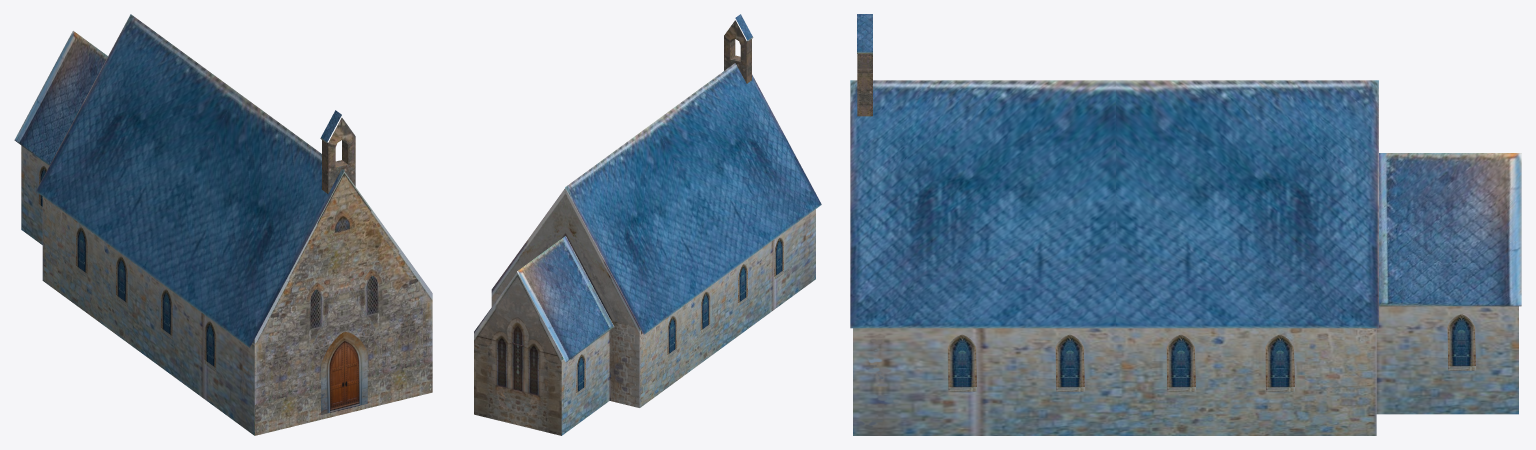
The model's file is church-small-19x8-cbj_LOD01.gltf.
The picture shows the model from 3 angles, left to right: view 1: azimuth 30°, elevation 25°; view 2: azimuth 150°, elevation 25°; view 3: azimuth 270°, elevation 25°; orthographic projection. The views are drawn at different scales.
Parts seen in each view (by area): view 1: Cube.002; view 2: Cube.002; view 3: Cube.002.
Part boxes in pixels (box(x1,y1,x2,y2)): Cube.002: box(14, 14, 432, 435); Cube.002: box(474, 14, 821, 435); Cube.002: box(850, 14, 1521, 435).
Bounding box in the file's own units: 7.6 × 11.41 × 18.84.
